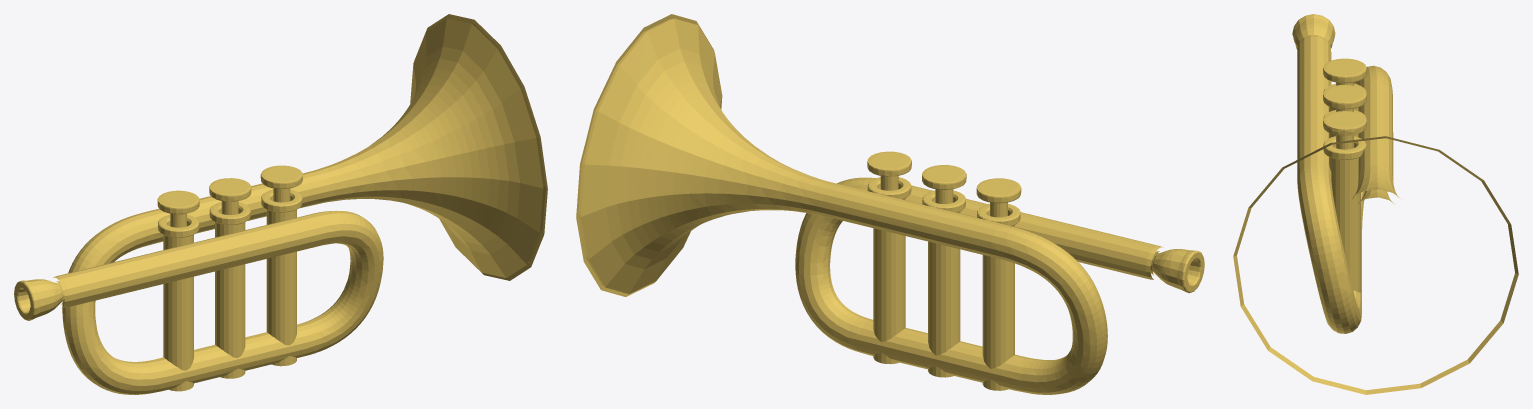
File: trumpet.glb
3 views of the same model, side by side, from view 1: azimuth 30°, elevation 25°; view 2: azimuth 150°, elevation 25°; view 3: azimuth 270°, elevation 25° (orthographic). The views are drawn at different scales.
Visible parts, largest first — view 1: Trumpet.2; view 2: Trumpet.2; view 3: Trumpet.2.
Part boxes in pixels (x1,y1,x2,y2): Trumpet.2: (14, 14, 547, 394); Trumpet.2: (576, 14, 1204, 394); Trumpet.2: (1233, 14, 1518, 394).
Bounding box in the file's own units: 0.55 × 0.2968 × 0.2688.
